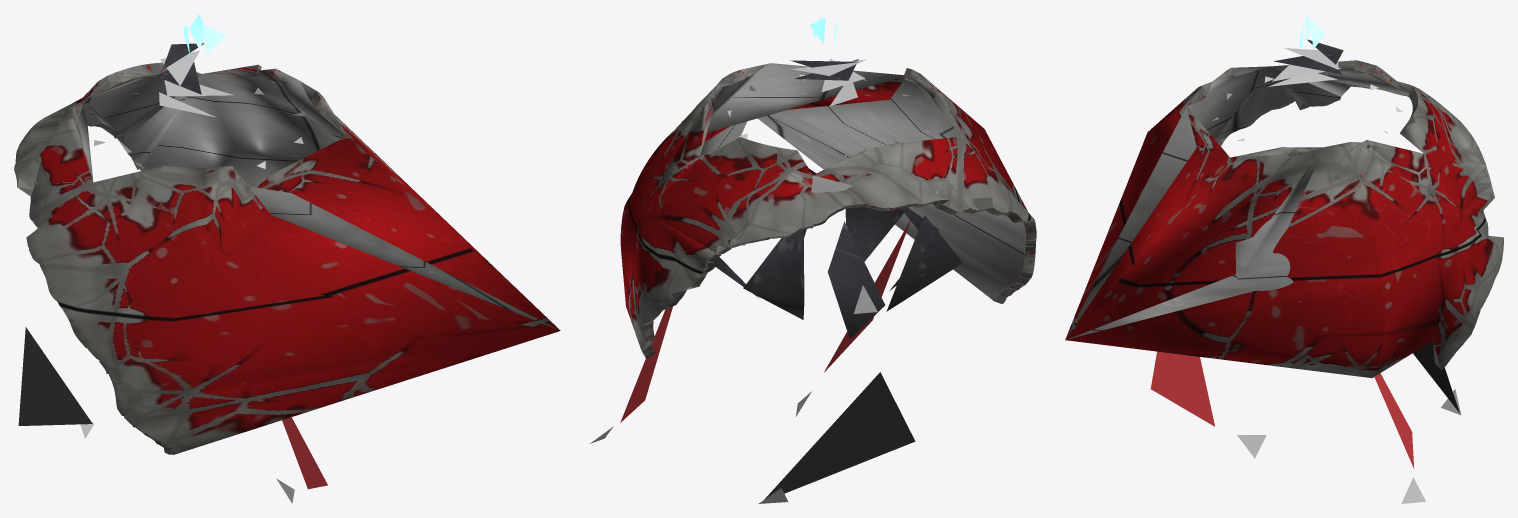
Rendered from baymax_joint_shell_lod2.glb.
3 renders of one model, left to right at view 1: azimuth 30°, elevation 25°; view 2: azimuth 150°, elevation 25°; view 3: azimuth 270°, elevation 25°, orthographic. The views are drawn at different scales.
Parts seen in each view (by area): view 1: baymax_joint_shell; view 2: baymax_joint_shell; view 3: baymax_joint_shell.
Boxes of the visible parts, x1,y1,x2,y2 form: baymax_joint_shell: [14, 14, 560, 503]; baymax_joint_shell: [590, 14, 1036, 503]; baymax_joint_shell: [1065, 14, 1503, 503].
Size of the model in its own units: 0.5684 by 0.6459 by 0.6173.
Materials: 8 (4 with a texture image).
